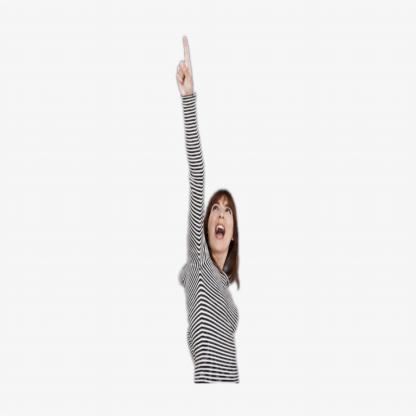Up: (167, 22, 200, 110)
